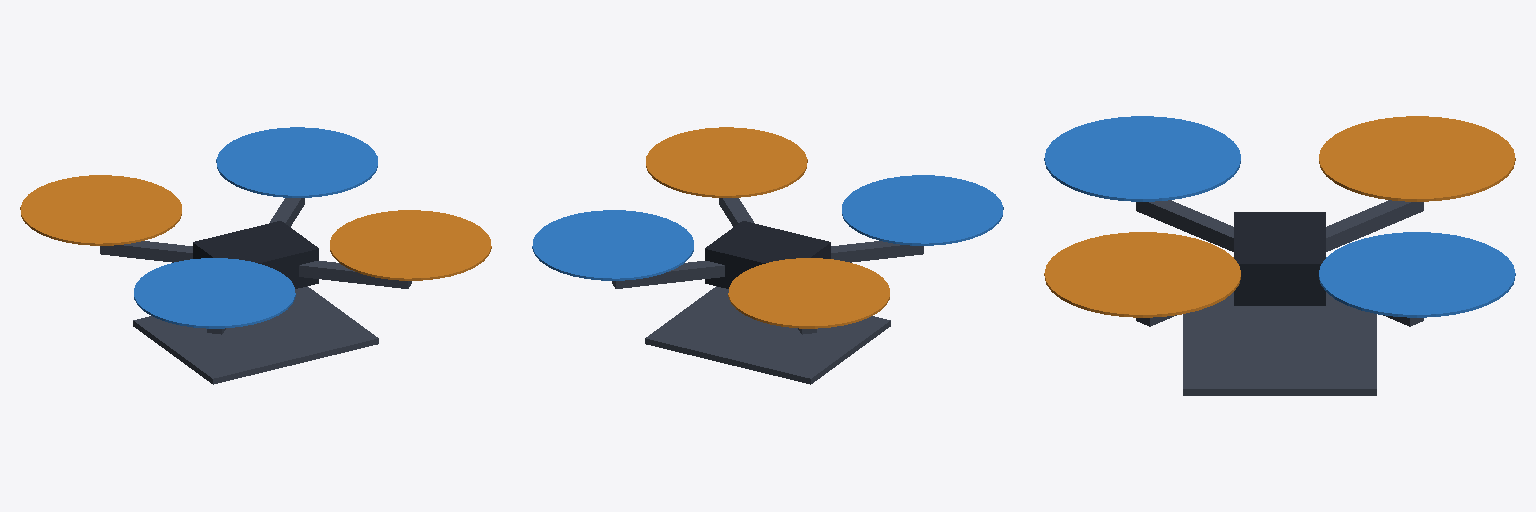
URDF robot description (quad_x500):
<?xml version="1.0"?>
<!-- quad_x500: a generic 500 mm quadcopter, Lagrange's sample for v0.4 (docs/design/robot-classes.md
     §5). An X frame with four 10-inch propellers on continuous joints, numbered and turning as
     PX4's Quadrotor X: rotor_1 front-right CCW, rotor_2 rear-left CCW, rotor_3 front-left CW,
     rotor_4 rear-right CW (x forward, y left, z up). Mass and inertia of the frame are
     illustrative, close to a 2 kg X500-class airframe; not a real product. Its rotors, motors and
     battery come from quad_x500.overlay.yaml. -->
<robot name="quad_x500">
  <material name="frame"><color rgba="0.18 0.2 0.24 1"/></material>
  <material name="arm"><color rgba="0.3 0.33 0.38 1"/></material>
  <material name="prop_ccw"><color rgba="0.85 0.55 0.2 1"/></material>
  <material name="prop_cw"><color rgba="0.25 0.55 0.85 1"/></material>

  <link name="base_link">
    <!-- 1.9 kg: frame, arms, battery, electronics; inertia of a 2 kg X500-class airframe. -->
    <inertial>
      <origin xyz="0 0 0"/>
      <mass value="1.9"/>
      <inertia ixx="0.0217" iyy="0.0217" izz="0.04" ixy="0" ixz="0" iyz="0"/>
    </inertial>
    <visual>
      <geometry><box size="0.16 0.12 0.06"/></geometry>
      <material name="frame"/>
    </visual>
    <visual>
      <origin xyz="0 0 0" rpy="0 0 0.7853981634"/>
      <geometry><box size="0.5 0.025 0.02"/></geometry>
      <material name="arm"/>
    </visual>
    <visual>
      <origin xyz="0 0 0" rpy="0 0 -0.7853981634"/>
      <geometry><box size="0.5 0.025 0.02"/></geometry>
      <material name="arm"/>
    </visual>
    <visual>
      <origin xyz="0 0 -0.12"/>
      <geometry><box size="0.3 0.25 0.01"/></geometry>
      <material name="arm"/>
    </visual>
    <collision>
      <geometry><box size="0.16 0.12 0.06"/></geometry>
    </collision>
    <!-- Landing gear: a skid plate 12.5 cm under the frame's centre. -->
    <collision>
      <origin xyz="0 0 -0.12"/>
      <geometry><box size="0.3 0.25 0.01"/></geometry>
    </collision>
  </link>
  <link name="rotor_1_link">
    <!-- Motor bell and propeller: 25 g; about the axis like a 10-inch two-blade propeller. -->
    <inertial>
      <mass value="0.025"/>
      <inertia ixx="0.000045" iyy="0.000045" izz="0.00009" ixy="0" ixz="0" iyz="0"/>
    </inertial>
    <visual>
      <geometry><cylinder radius="0.127" length="0.004"/></geometry>
      <material name="prop_ccw"/>
    </visual>
  </link>
  <joint name="rotor_1_joint" type="continuous">
    <parent link="base_link"/>
    <child link="rotor_1_link"/>
    <origin xyz="0.177 -0.177 0.06"/>
    <axis xyz="0 0 1"/>
  </joint>
  <link name="rotor_2_link">
    <!-- Motor bell and propeller: 25 g; about the axis like a 10-inch two-blade propeller. -->
    <inertial>
      <mass value="0.025"/>
      <inertia ixx="0.000045" iyy="0.000045" izz="0.00009" ixy="0" ixz="0" iyz="0"/>
    </inertial>
    <visual>
      <geometry><cylinder radius="0.127" length="0.004"/></geometry>
      <material name="prop_ccw"/>
    </visual>
  </link>
  <joint name="rotor_2_joint" type="continuous">
    <parent link="base_link"/>
    <child link="rotor_2_link"/>
    <origin xyz="-0.177 0.177 0.06"/>
    <axis xyz="0 0 1"/>
  </joint>
  <link name="rotor_3_link">
    <!-- Motor bell and propeller: 25 g; about the axis like a 10-inch two-blade propeller. -->
    <inertial>
      <mass value="0.025"/>
      <inertia ixx="0.000045" iyy="0.000045" izz="0.00009" ixy="0" ixz="0" iyz="0"/>
    </inertial>
    <visual>
      <geometry><cylinder radius="0.127" length="0.004"/></geometry>
      <material name="prop_cw"/>
    </visual>
  </link>
  <joint name="rotor_3_joint" type="continuous">
    <parent link="base_link"/>
    <child link="rotor_3_link"/>
    <origin xyz="0.177 0.177 0.06"/>
    <axis xyz="0 0 1"/>
  </joint>
  <link name="rotor_4_link">
    <!-- Motor bell and propeller: 25 g; about the axis like a 10-inch two-blade propeller. -->
    <inertial>
      <mass value="0.025"/>
      <inertia ixx="0.000045" iyy="0.000045" izz="0.00009" ixy="0" ixz="0" iyz="0"/>
    </inertial>
    <visual>
      <geometry><cylinder radius="0.127" length="0.004"/></geometry>
      <material name="prop_cw"/>
    </visual>
  </link>
  <joint name="rotor_4_joint" type="continuous">
    <parent link="base_link"/>
    <child link="rotor_4_link"/>
    <origin xyz="-0.177 -0.177 0.06"/>
    <axis xyz="0 0 1"/>
  </joint>
  <!-- The motors take torque commands (from the built-in controller, or an autopilot through
       the MAVLink bridge), which the electrical domain turns into motor torque. -->
  <ros2_control name="LagrangeSystem" type="system">
    <hardware>
      <plugin>lagrange_ros2_control/LagrangeSystem</plugin>
    </hardware>
    <joint name="rotor_1_joint">
      <command_interface name="effort"/>
      <state_interface name="position"/>
      <state_interface name="velocity"/>
    </joint>
    <joint name="rotor_2_joint">
      <command_interface name="effort"/>
      <state_interface name="position"/>
      <state_interface name="velocity"/>
    </joint>
    <joint name="rotor_3_joint">
      <command_interface name="effort"/>
      <state_interface name="position"/>
      <state_interface name="velocity"/>
    </joint>
    <joint name="rotor_4_joint">
      <command_interface name="effort"/>
      <state_interface name="position"/>
      <state_interface name="velocity"/>
    </joint>
  </ros2_control>
</robot>

--- Render facts (derived) ---
3 views of the same robot in one strip: view 1: azimuth 30°, elevation 25°; view 2: azimuth 150°, elevation 25°; view 3: azimuth 270°, elevation 25° (orthographic).
Robot: quad_x500 — 5 links, 4 joints (4 continuous); root link base_link; default pose: every joint at zero.
Visible links, largest first — view 1: base_link, rotor_1_link, rotor_2_link, rotor_4_link, rotor_3_link; view 2: base_link, rotor_2_link, rotor_3_link, rotor_4_link, rotor_1_link; view 3: base_link, rotor_1_link, rotor_2_link, rotor_3_link, rotor_4_link.
Boxes of the visible links, left/top/right/bottom form: base_link: left=100, top=198, right=411, bottom=384; rotor_1_link: left=330, top=210, right=491, bottom=280; rotor_2_link: left=20, top=175, right=181, bottom=245; rotor_4_link: left=134, top=258, right=295, bottom=328; rotor_3_link: left=216, top=127, right=377, bottom=197; base_link: left=612, top=198, right=923, bottom=384; rotor_2_link: left=728, top=258, right=889, bottom=328; rotor_3_link: left=532, top=210, right=693, bottom=280; rotor_4_link: left=842, top=175, right=1003, bottom=245; rotor_1_link: left=646, top=127, right=807, bottom=197; base_link: left=1136, top=200, right=1423, bottom=395; rotor_1_link: left=1044, top=232, right=1240, bottom=317; rotor_2_link: left=1319, top=116, right=1515, bottom=201; rotor_3_link: left=1319, top=232, right=1515, bottom=317; rotor_4_link: left=1044, top=116, right=1240, bottom=201.
Bounding box of the posed robot: 0.608 × 0.608 × 0.187 m (x, y, z).
Geometry: primitives only (box / cylinder / sphere), no mesh files.
